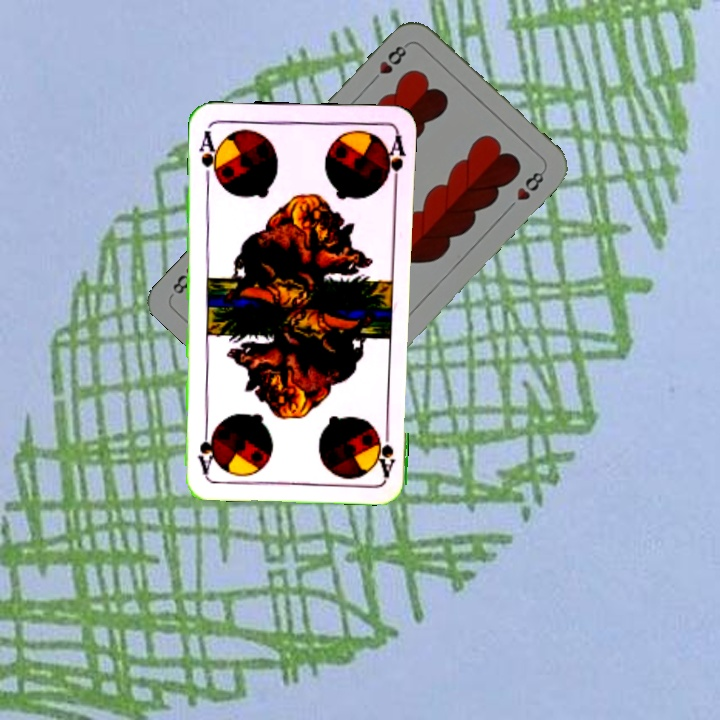H8: (366, 39, 411, 87)
SA: (194, 126, 222, 184), (372, 420, 397, 479)
